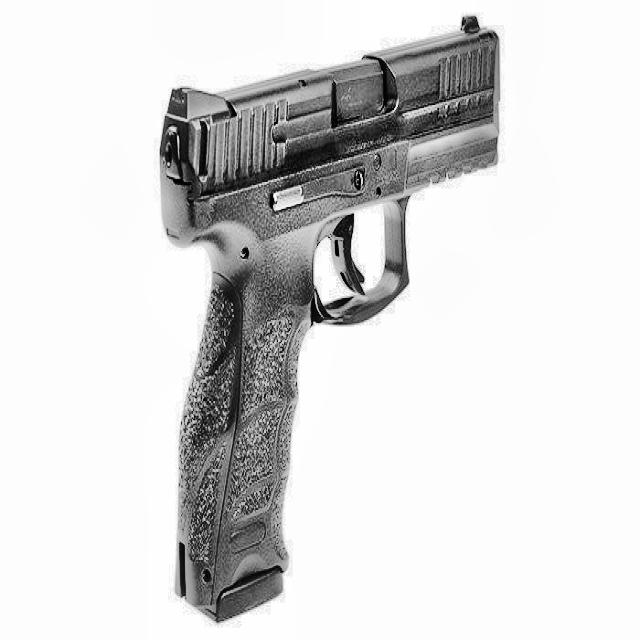HKVP9: (157, 11, 502, 623)
